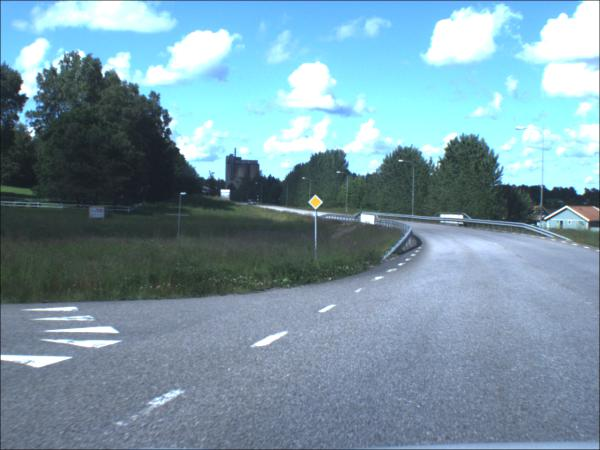PRIORITY_ROAD: (308, 195, 323, 212)
